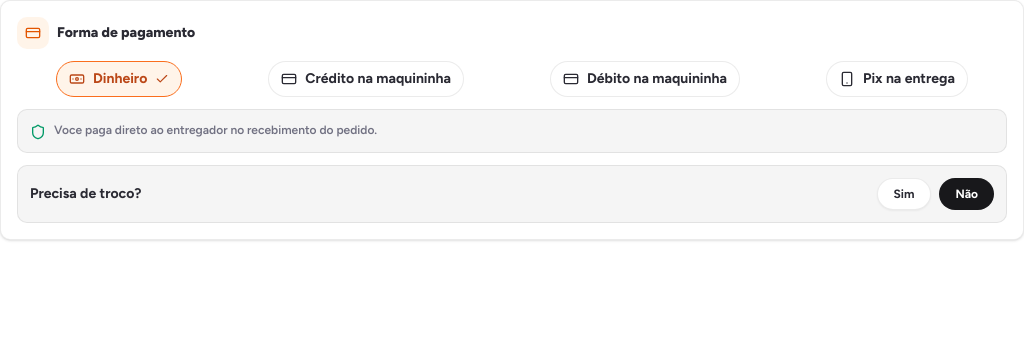
Test case: PaymentMethod › texto que não é número também avisa
This screenshot has width=1024, height=351.
Click the button "Sim" at (904, 194), box [876,178,931,210]
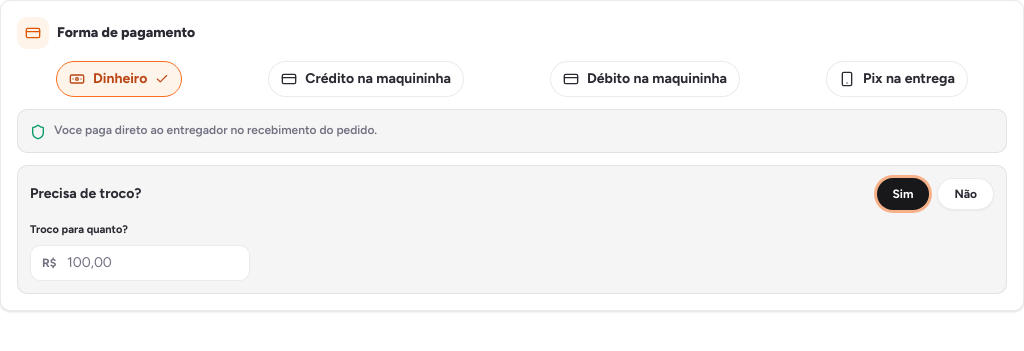
Type "abc" into the field labelled "Troco para quanto?" at (140, 262), box [30,244,250,280]
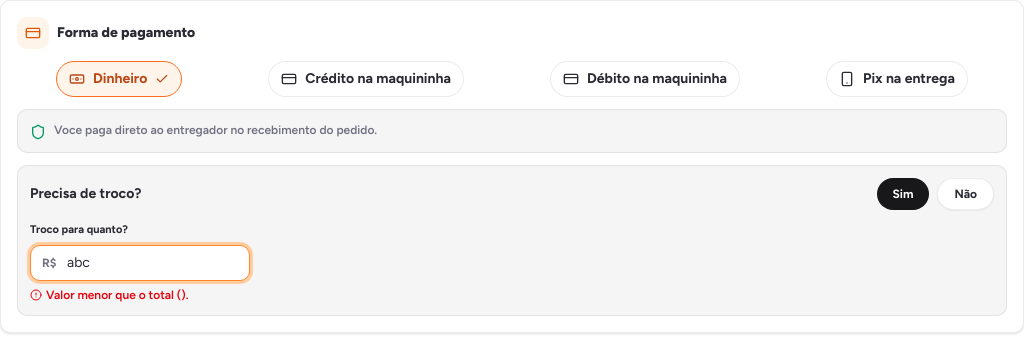
Now the text "Valor menor que o total ()." is shown, box [30,288,188,302]
